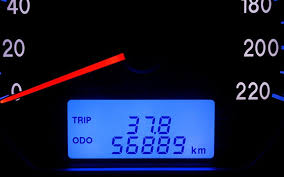Digital_Meter: (69, 101, 214, 158)
